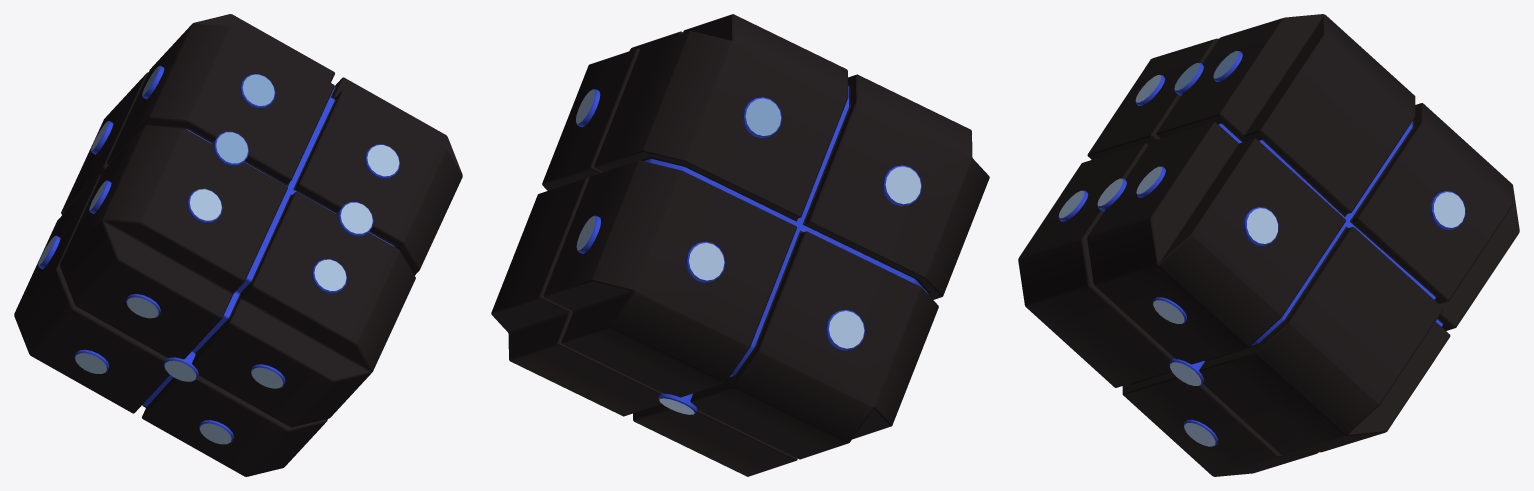
The model's file is W_O_Playground_CubeSymbolic_L0.fbx.
3 views of the same model, side by side, from view 1: azimuth 30°, elevation 25°; view 2: azimuth 150°, elevation 25°; view 3: azimuth 270°, elevation 25° (orthographic). The views are drawn at different scales.
Visible parts, largest first — view 1: W_O_Playground_CubeSymbolic_L0; view 2: W_O_Playground_CubeSymbolic_L0; view 3: W_O_Playground_CubeSymbolic_L0.
Part boxes in pixels (left/top/right/bottom): W_O_Playground_CubeSymbolic_L0: left=14, top=14, right=462, bottom=476; W_O_Playground_CubeSymbolic_L0: left=491, top=14, right=989, bottom=476; W_O_Playground_CubeSymbolic_L0: left=1018, top=14, right=1519, bottom=476.
Size of the model in its own units: 1.69 by 1.99 by 1.99.
